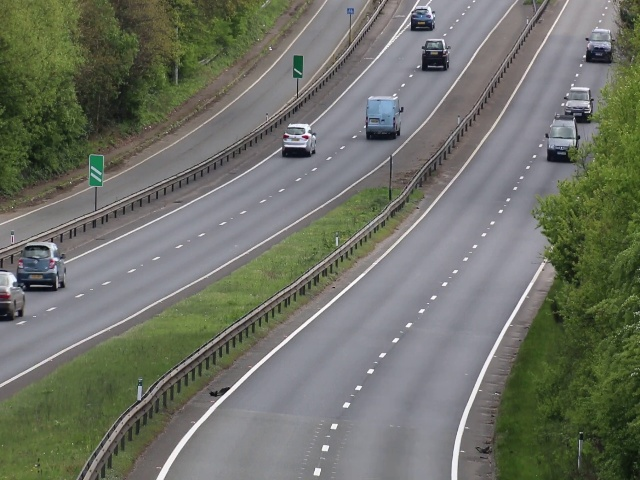car: (18, 242, 66, 292), (362, 94, 405, 142), (546, 118, 580, 165), (280, 120, 317, 157), (1, 269, 27, 320), (420, 38, 451, 71), (585, 28, 614, 63), (565, 85, 592, 121), (410, 5, 436, 31)
